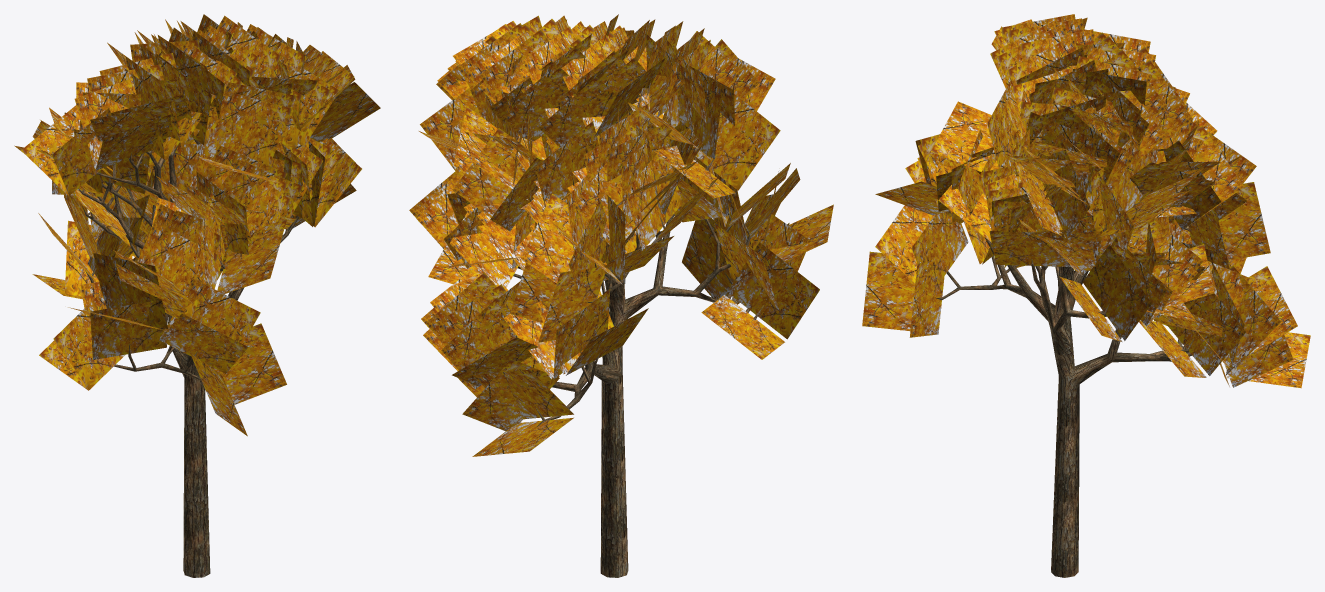
3 renders of one model, left to right at view 1: azimuth 30°, elevation 25°; view 2: azimuth 150°, elevation 25°; view 3: azimuth 270°, elevation 25°, orthographic. The views are drawn at different scales.
Visible parts, largest first — view 1: twig_005, tree_005; view 2: twig_005, tree_005; view 3: twig_005, tree_005.
Boxes of the visible parts, box(x1,y1,x2,y2) form: twig_005: box(14, 14, 380, 436); tree_005: box(78, 139, 299, 577); twig_005: box(409, 14, 833, 456); tree_005: box(504, 112, 765, 577); twig_005: box(862, 14, 1310, 388); tree_005: box(936, 183, 1194, 577).
Size of the model in its own units: 4.18 by 4.66 by 6.15.
Materials: 2 (2 with a texture image).
